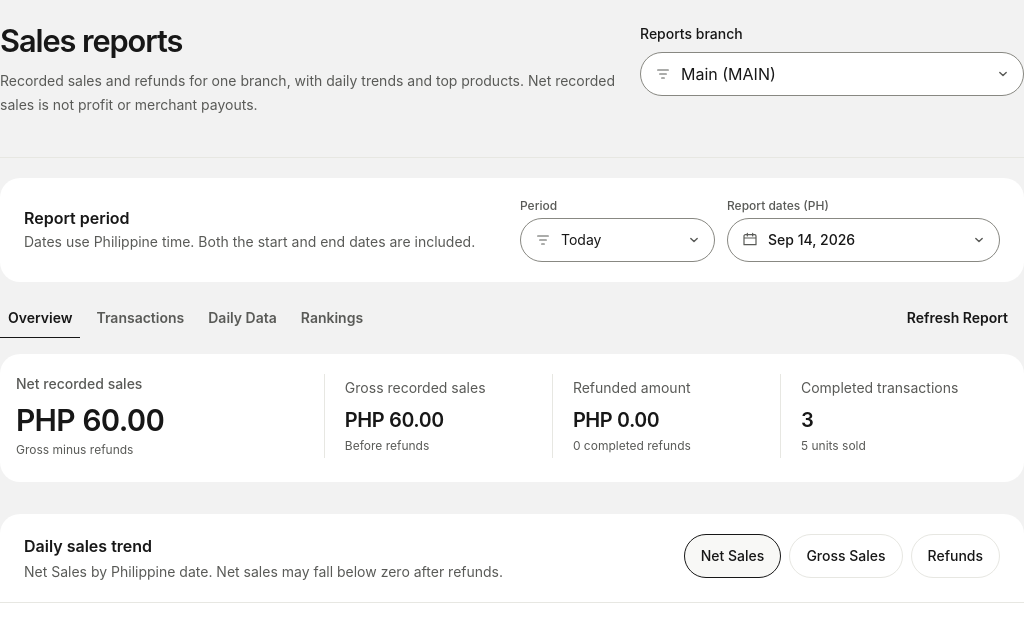
Scenario: staff Reports workspace › switches report tabs without leaving the section or changing the applied range
This screenshot has width=1024, height=617.
Click the tab "Daily Data": (243, 317) [208,309,277,326]
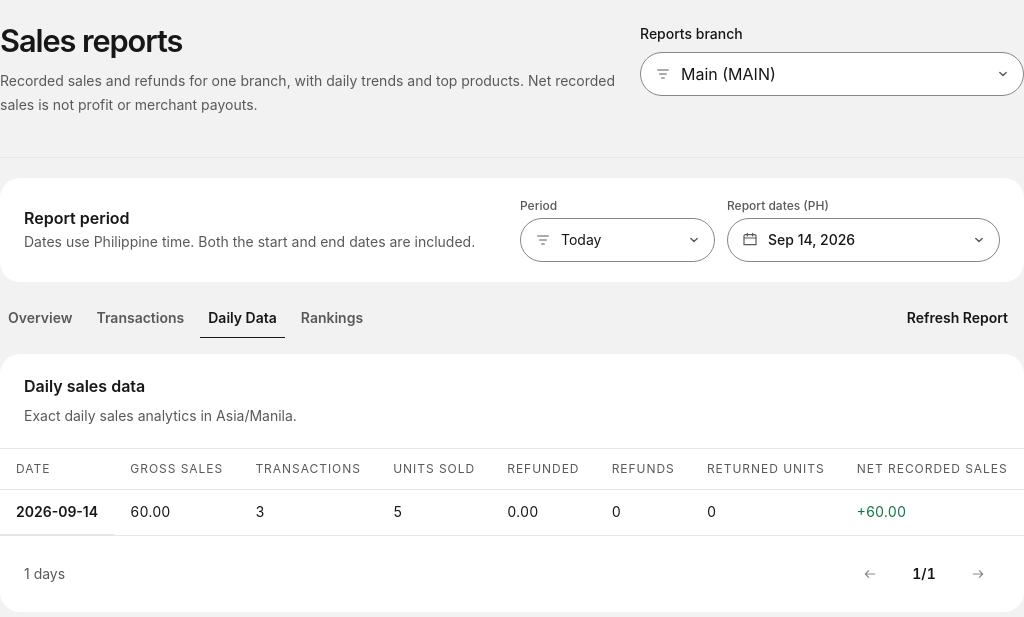
Check: the table named "Daily sales data in Asia/Manila" is shown, box [0,449,1023,535]
Check: the button with aria-label "Report date filter" reads "Sep 14, 2026", box [727,218,1000,262]
Click the tab "Rankings": (332, 317) [301,309,363,326]
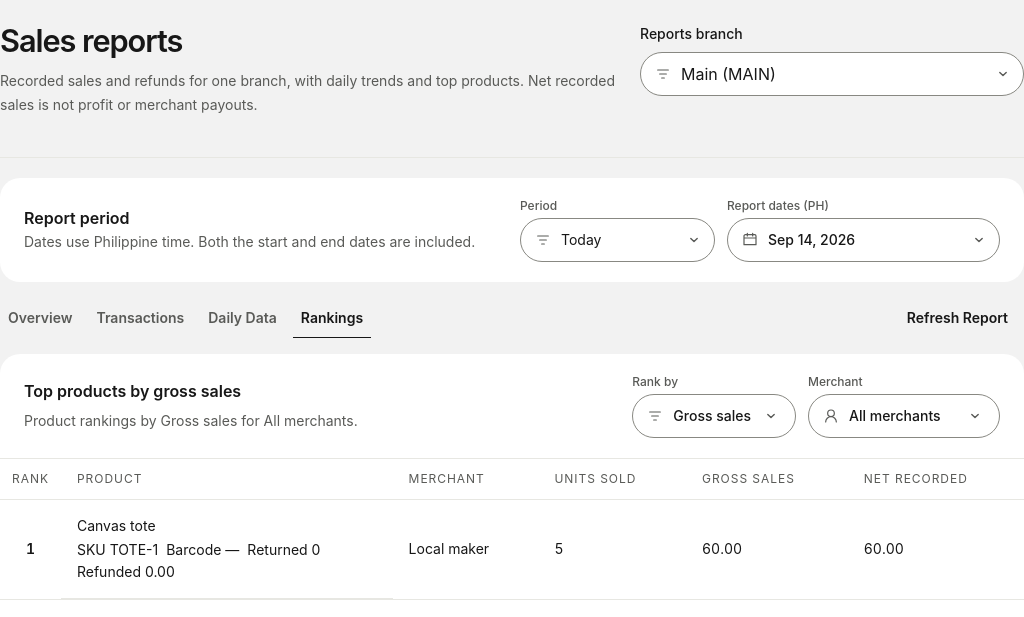
Check: the button with aria-label "Report date filter" reads "Sep 14, 2026", box [727,218,1000,262]
Check: the table named "Top products by gross sales" is shown, box [0,459,1023,599]
Click the tab "Overview": (40, 317) [8,309,72,326]
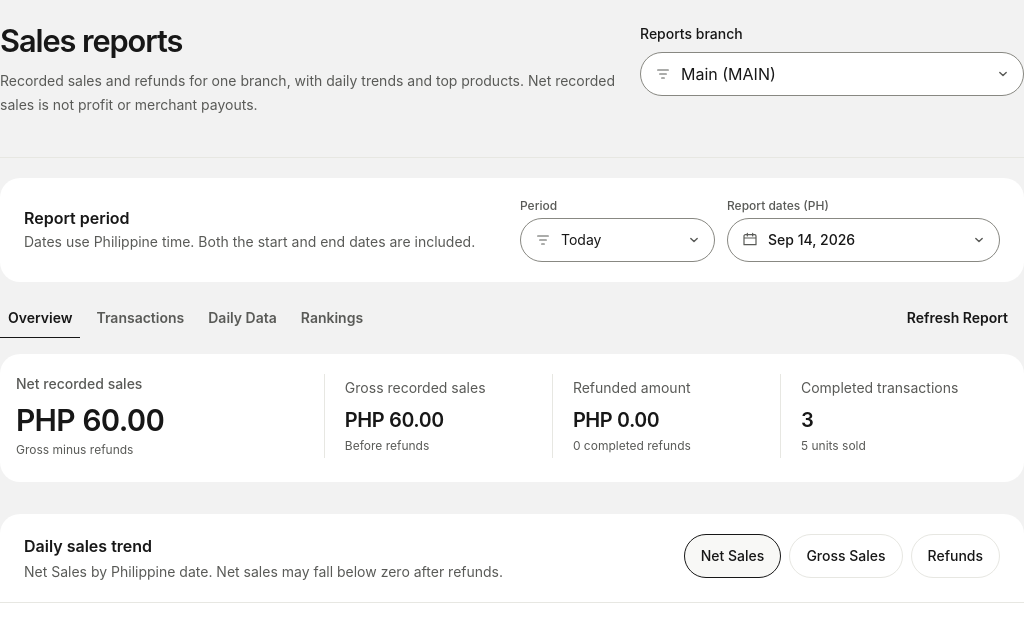
Check: the heading "Daily sales trend" is shown, box [24,536,152,556]
